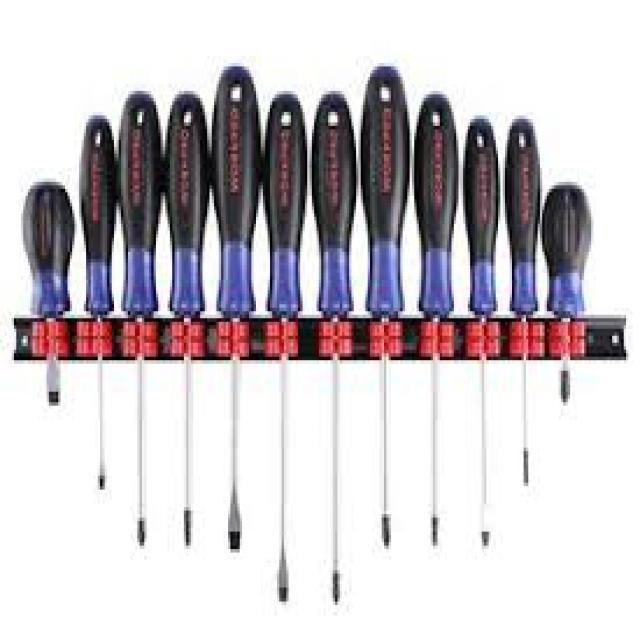screwdriver: (210, 65, 262, 551), (310, 89, 358, 607), (362, 62, 411, 554), (262, 87, 308, 605), (410, 89, 460, 554), (162, 88, 210, 550), (118, 88, 162, 552), (462, 112, 502, 552), (76, 112, 118, 490), (502, 116, 542, 507), (22, 180, 78, 408), (540, 180, 594, 408)
